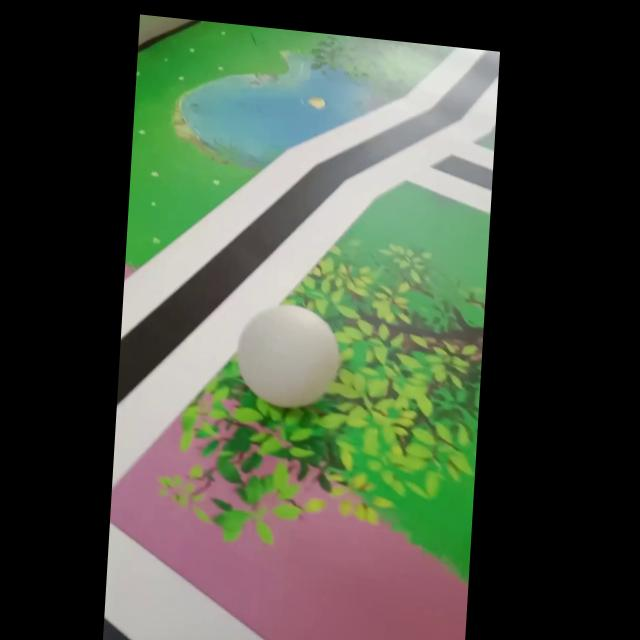white ball: (233, 298, 345, 413)
